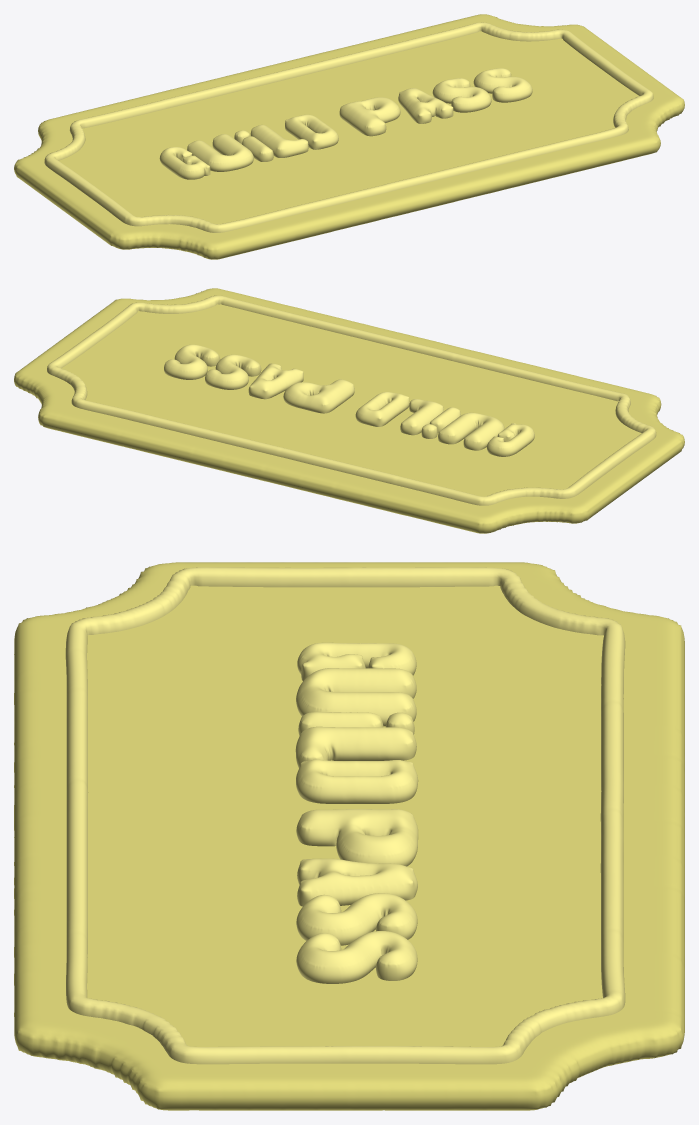
File: gold_guild_pass-transformed.glb
3 views of the same model, one above another, from view 1: azimuth 30°, elevation 25°; view 2: azimuth 150°, elevation 25°; view 3: azimuth 270°, elevation 25° (orthographic). The views are drawn at different scales.
Visible parts, largest first — view 1: Curve, Curve.001; view 2: Curve, Curve.001; view 3: Curve, Curve.001.
Part boxes in pixels (box(x1,y1,x2,y2)): Curve: box(14, 14, 684, 259); Curve.001: box(44, 22, 653, 232); Curve: box(14, 288, 684, 533); Curve.001: box(47, 295, 656, 505); Curve: box(14, 562, 684, 1110); Curve.001: box(65, 567, 625, 1064).
Bounding box in the file's own units: 3.49 × 0.1674 × 1.87.
